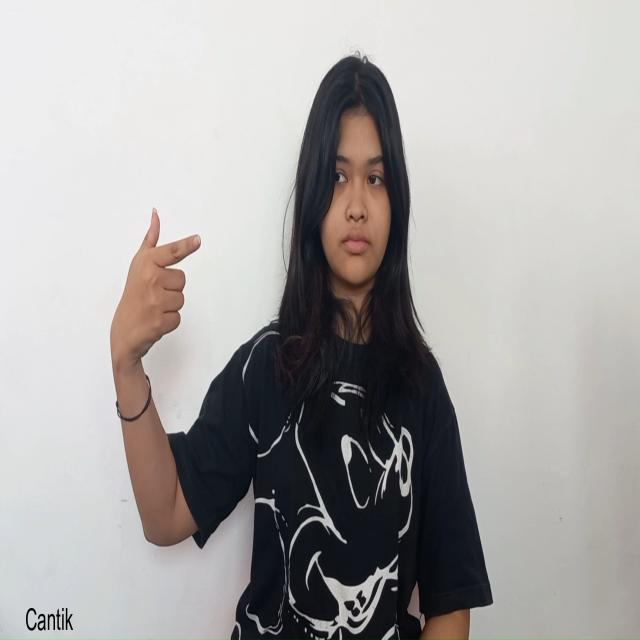Cantik -BISINDO-: (109, 203, 202, 382)
